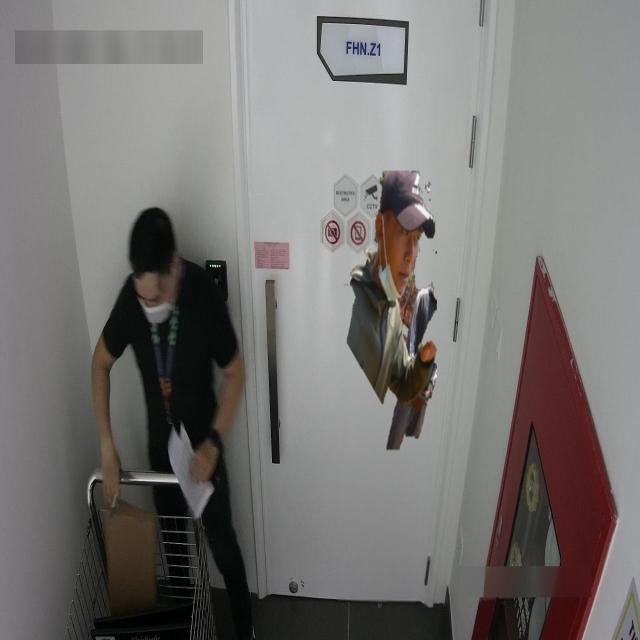hairnet: (378, 215, 420, 302)
